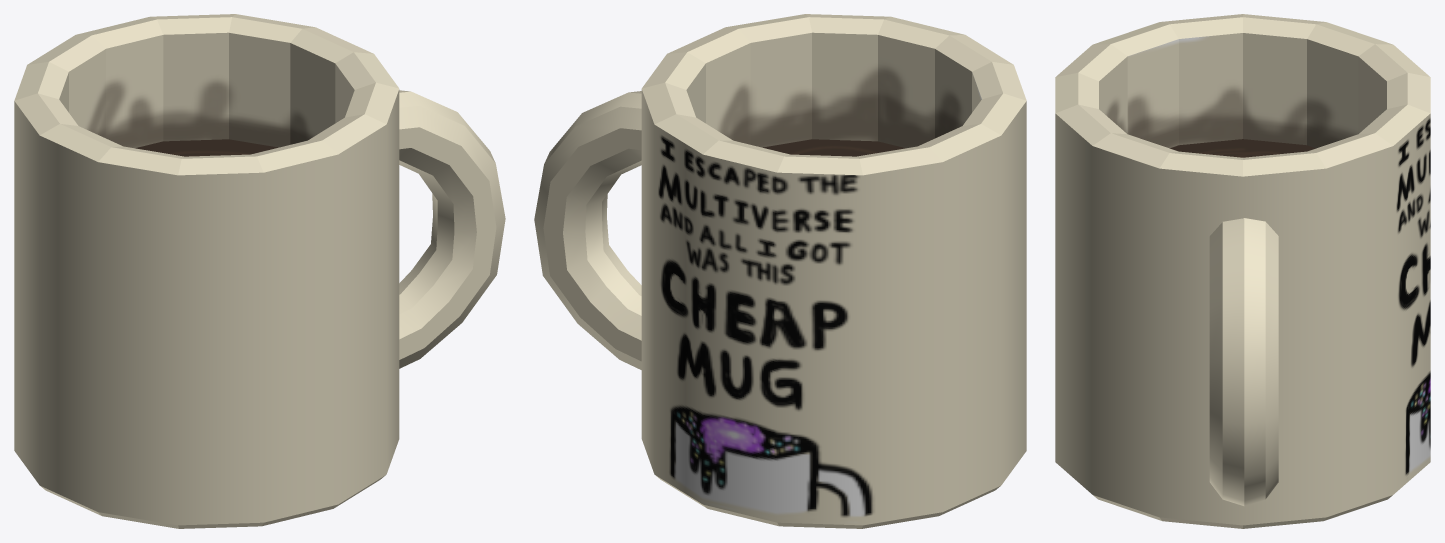
The model's file is CoffeeMug_Model.fbx.
The picture shows the model from 3 angles, left to right: view 1: azimuth 30°, elevation 25°; view 2: azimuth 150°, elevation 25°; view 3: azimuth 270°, elevation 25°; orthographic projection.
Visible parts, largest first — view 1: pCylinder7; view 2: pCylinder7; view 3: pCylinder7.
Part boxes in pixels (<box>): pCylinder7: <box>14,14,505,528</box>; pCylinder7: <box>534,14,1026,528</box>; pCylinder7: <box>1055,14,1430,528</box>.
Bounding box in the file's own units: 0.0228 × 0.0171 × 0.0161.
